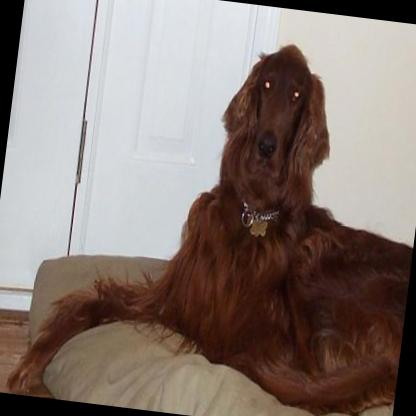Irish_setter: (5, 10, 416, 416)
